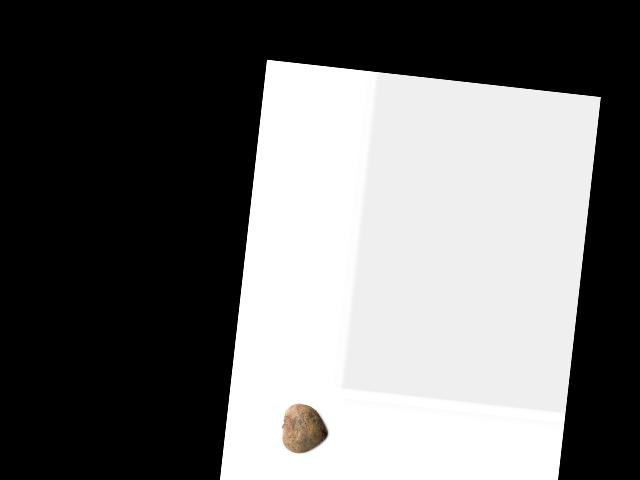beet: (280, 401, 330, 456)
